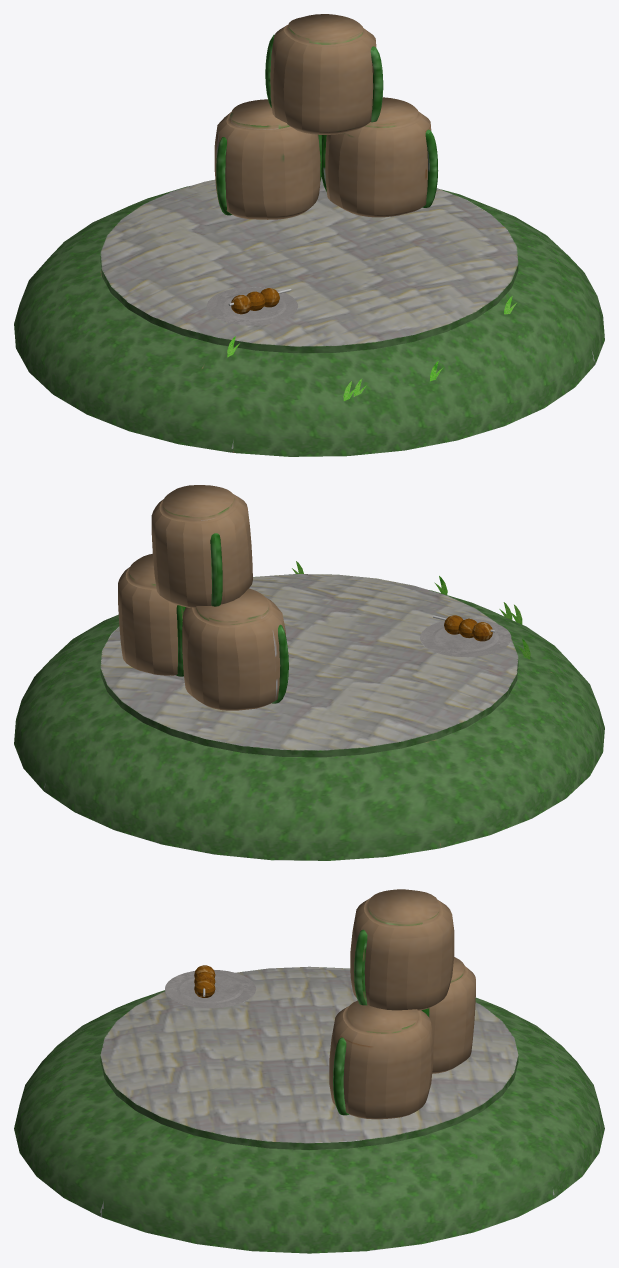
The model's file is stage.glb.
3 renders of one model, top to bottom at view 1: azimuth 30°, elevation 25°; view 2: azimuth 150°, elevation 25°; view 3: azimuth 270°, elevation 25°, orthographic.
Parts seen in each view (by area): view 1: 球, himo.002, himo.001, himo, 円, 球.001, 平面.003; view 2: 球, himo.002, himo, himo.001, 円, 球.001, 平面.003; view 3: 球, himo.002, himo.001, himo, 円, 球.001.
Part boxes in pixels (x1,y1,x2,y2): 球: (14,177,604,456); himo.002: (265,14,383,134); himo.001: (321,97,438,217); himo: (214,99,322,219); 円: (206,287,297,325); 球.001: (231,288,279,314); 平面.003: (227,296,516,400); 球: (14,574,604,860); himo.002: (151,485,252,607); himo: (181,588,288,710); himo.001: (118,554,185,676); 円: (420,618,511,657); 球.001: (444,615,492,641); 平面.003: (292,561,530,659); 球: (14,966,604,1253); himo.002: (350,889,454,1010); himo.001: (329,1000,433,1119); himo: (421,957,475,1073); 円: (165,970,256,1008); 球.001: (194,965,215,997).
Size of the model in its own units: 1.23 by 0.5903 by 1.23.
1 material, 1 textured.
